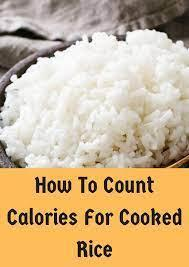rice: (0, 31, 189, 170)
